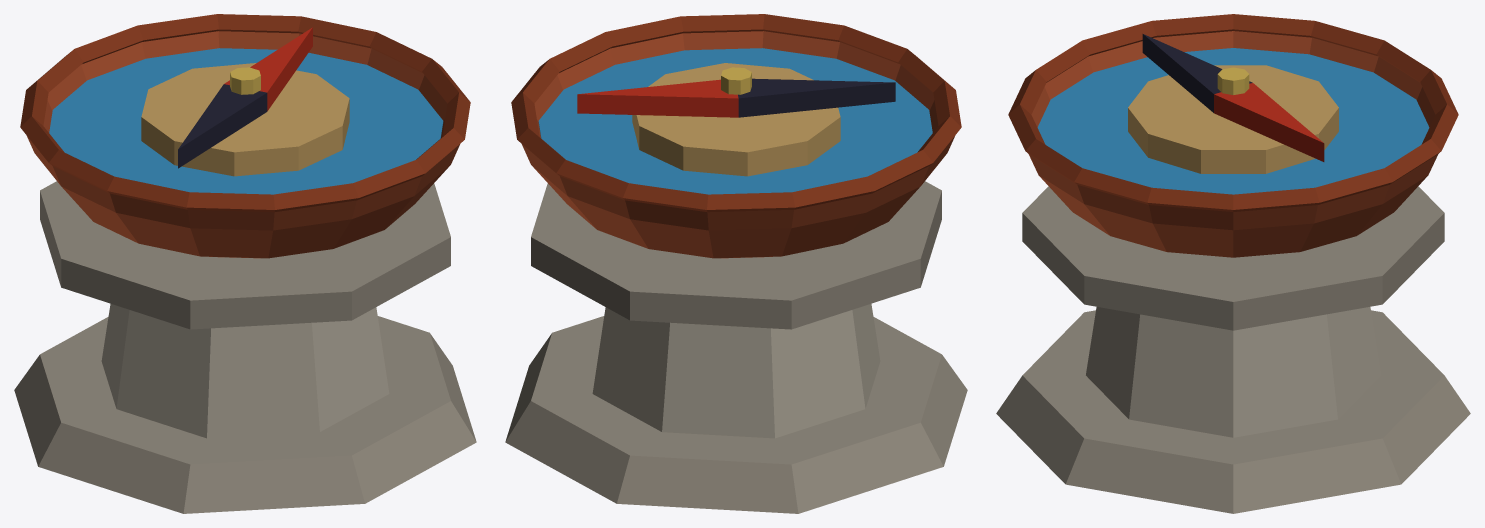
File: boussole.glb
3 renders of one model, left to right at view 1: azimuth 30°, elevation 25°; view 2: azimuth 150°, elevation 25°; view 3: azimuth 270°, elevation 25°, orthographic.
Visible parts, largest first — view 1: boussole; view 2: boussole; view 3: boussole.
Boxes of the visible parts, left/top/right/bottom form: boussole: left=14, top=14, right=476, bottom=513; boussole: left=505, top=14, right=967, bottom=513; boussole: left=996, top=14, right=1470, bottom=513.
Bounding box in the file's own units: 0.9 × 0.71 × 0.9.
